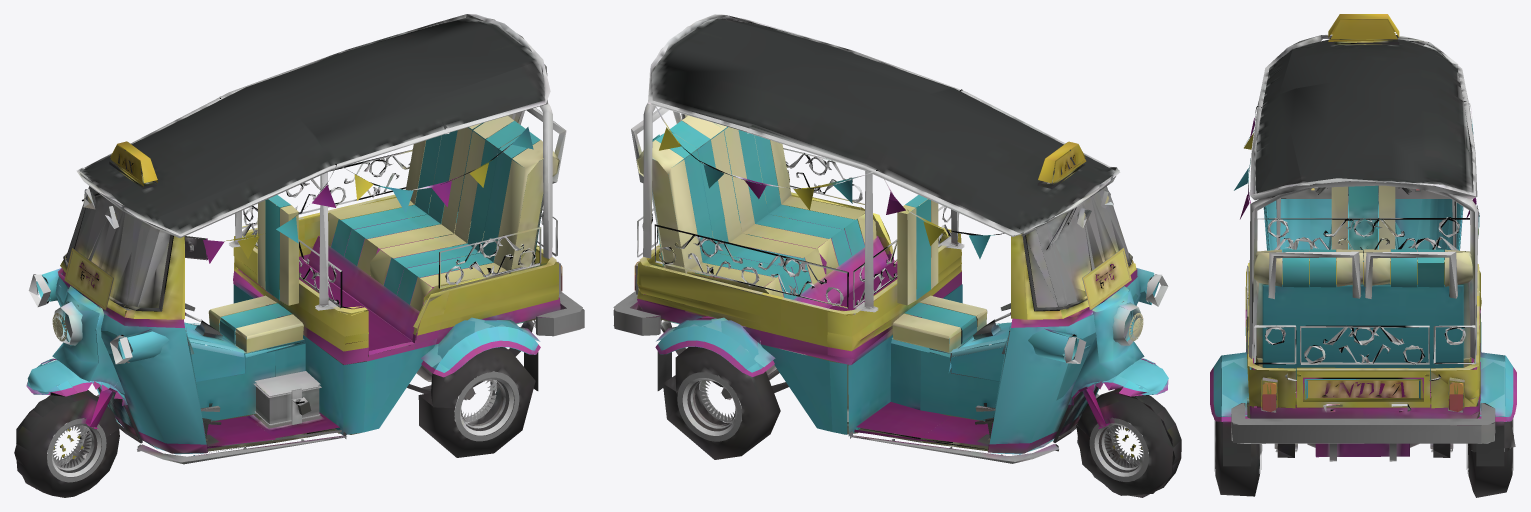
The model's file is tuktuk.glb.
The picture shows the model from 3 angles, left to right: view 1: azimuth 30°, elevation 25°; view 2: azimuth 150°, elevation 25°; view 3: azimuth 270°, elevation 25°; orthographic projection. The views are drawn at different scales.
Visible parts, largest first — view 1: tuktuk; view 2: tuktuk; view 3: tuktuk.
Boxes of the visible parts, x1=… form: tuktuk: x1=14, y1=14, x2=584, y2=497; tuktuk: x1=613, y1=14, x2=1181, y2=497; tuktuk: x1=1210, y1=14, x2=1516, y2=497.
Bounding box in the file's own units: 2.76 × 1.85 × 1.41.
1 material, 1 textured.
